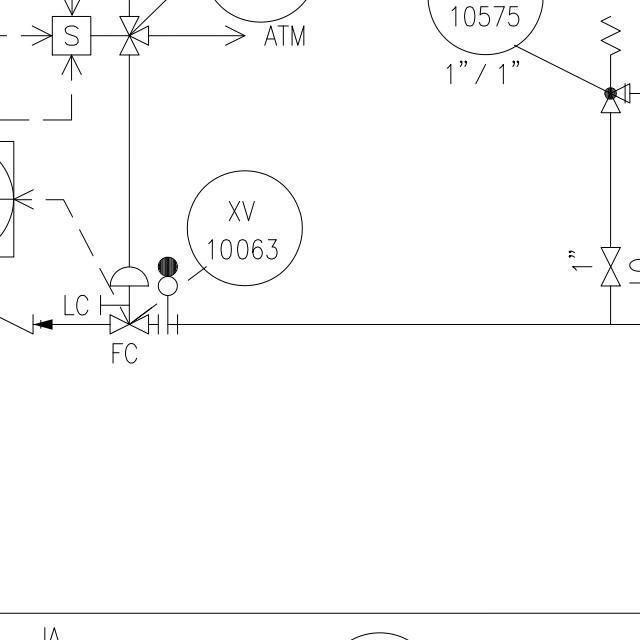3W: (113, 10, 154, 61)
FC: (105, 258, 153, 337)
GV: (597, 241, 623, 292)
RPV: (592, 11, 635, 124)
SV: (47, 10, 141, 60)
